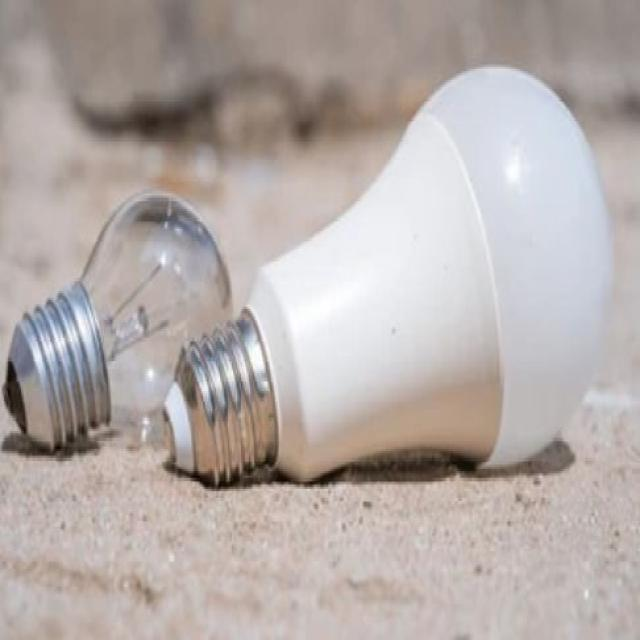electronic: (162, 62, 614, 487), (1, 187, 233, 453)
